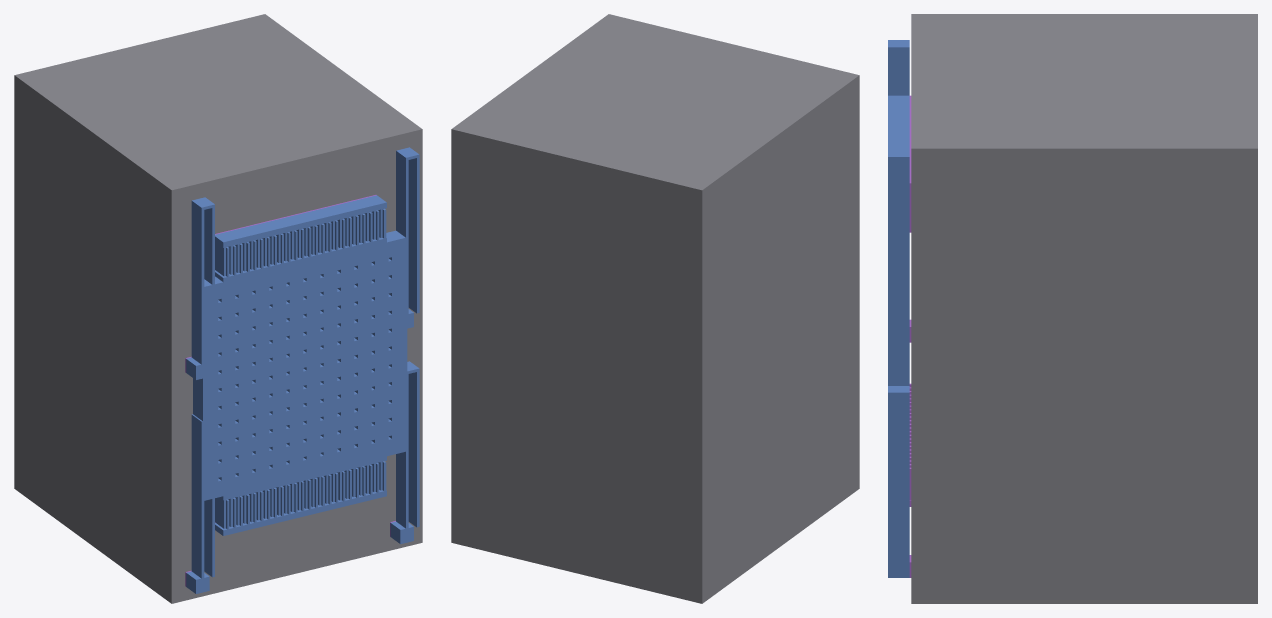
Rendered from comb_resonator.obj.
3 renders of one model, left to right at view 1: azimuth 30°, elevation 25°; view 2: azimuth 150°, elevation 25°; view 3: azimuth 270°, elevation 25°, orthographic. The views are drawn at different scales.
Visible parts, largest first — view 1: HANDLE, DEVICE; view 2: HANDLE; view 3: HANDLE, DEVICE, BOX.
Boxes of the visible parts, <box> form: HANDLE: <box>14,14,422,603</box>; DEVICE: <box>186,147,419,593</box>; HANDLE: <box>451,14,859,603</box>; HANDLE: <box>911,14,1257,603</box>; DEVICE: <box>888,40,909,577</box>; BOX: <box>909,95,911,577</box>.
Bounding box in the file's own units: 368 × 580 × 427.
